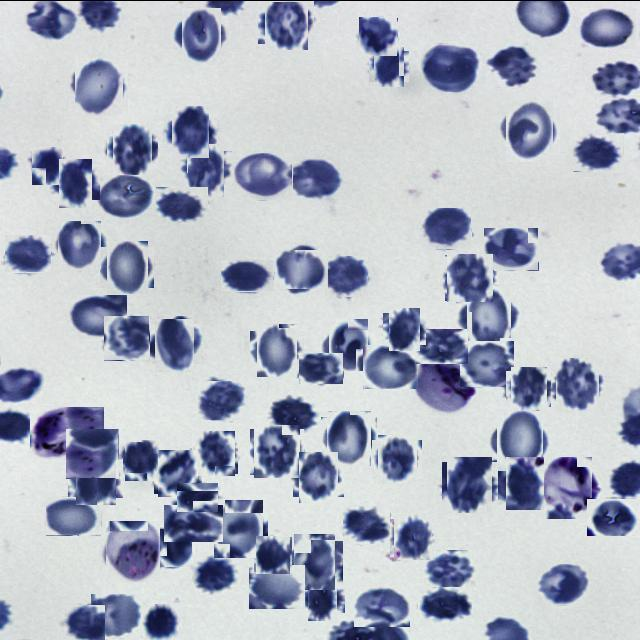red blood cell: (502, 103, 557, 157), (72, 59, 126, 113), (492, 412, 546, 466), (462, 290, 516, 344), (212, 501, 266, 555), (234, 152, 293, 200), (96, 171, 156, 218), (422, 42, 479, 90), (444, 458, 496, 509), (66, 428, 119, 478), (69, 294, 127, 338), (459, 340, 514, 386), (324, 413, 374, 463), (252, 426, 302, 476), (249, 564, 305, 608), (290, 536, 339, 586), (579, 7, 637, 49), (363, 344, 418, 388), (484, 227, 539, 270), (287, 156, 343, 198), (554, 359, 602, 408), (151, 319, 199, 367), (262, 0, 311, 47), (486, 44, 539, 87), (103, 243, 151, 290), (72, 453, 119, 501), (253, 326, 300, 374), (164, 502, 223, 540), (46, 496, 102, 536), (354, 586, 410, 626), (178, 11, 225, 58), (446, 253, 493, 300), (91, 593, 141, 637), (538, 563, 590, 605), (278, 245, 325, 291), (424, 549, 476, 590), (110, 125, 156, 171), (326, 322, 372, 368), (56, 222, 102, 268), (182, 146, 228, 192), (502, 460, 548, 506), (422, 206, 472, 248), (374, 436, 420, 481), (104, 315, 150, 360), (168, 109, 213, 154), (296, 454, 342, 498), (573, 132, 624, 171), (418, 586, 472, 622), (587, 496, 638, 534), (156, 451, 200, 495), (198, 380, 246, 420), (270, 393, 321, 430), (343, 505, 391, 544), (416, 328, 468, 363), (156, 186, 208, 221), (5, 234, 52, 272), (194, 432, 236, 474), (392, 516, 434, 558), (325, 255, 368, 296), (54, 162, 96, 203), (194, 555, 239, 593), (221, 259, 274, 291), (358, 16, 398, 56), (508, 368, 548, 408), (62, 604, 104, 640), (304, 578, 342, 616), (154, 528, 192, 566), (122, 440, 160, 478), (140, 602, 178, 640), (299, 352, 344, 384), (386, 309, 424, 346), (255, 535, 291, 572), (371, 48, 407, 83), (177, 482, 219, 512), (30, 148, 66, 182)
trophozoite: (30, 406, 104, 458), (412, 359, 476, 412), (104, 522, 162, 580), (538, 458, 595, 516)
